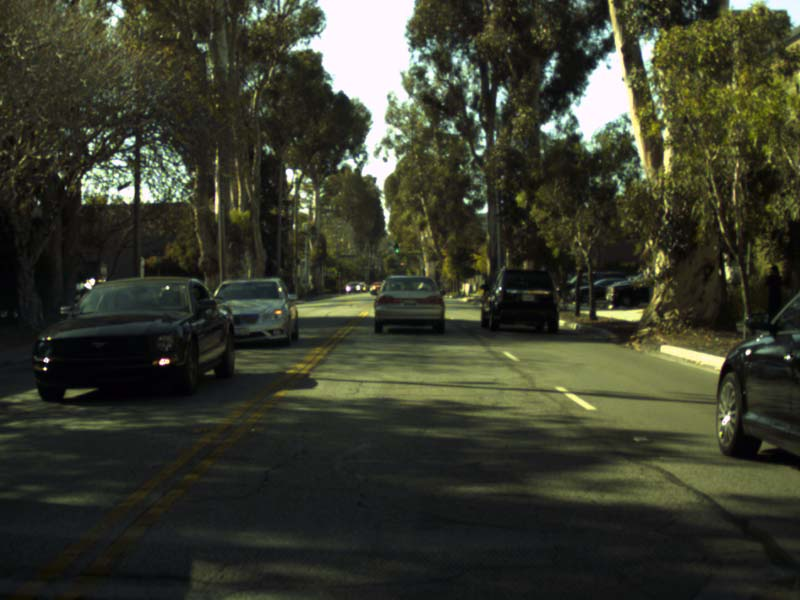Green: (393, 244, 399, 253)
Yellow: (399, 258, 404, 266)
